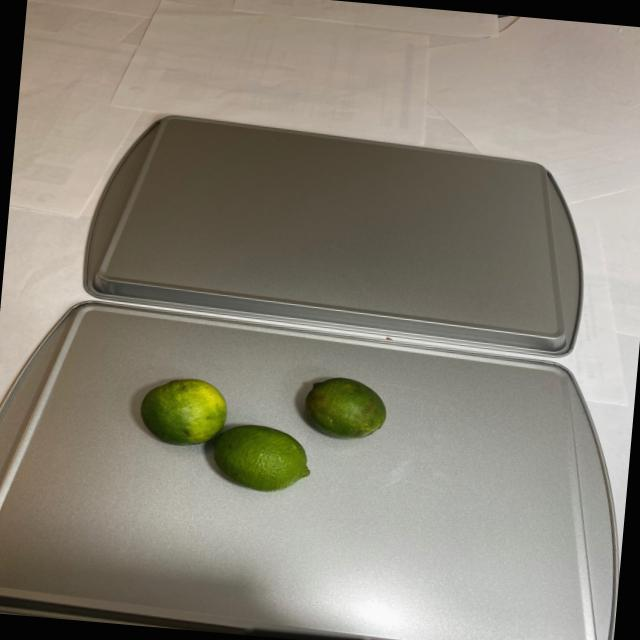lemon: (127, 356, 392, 499)
